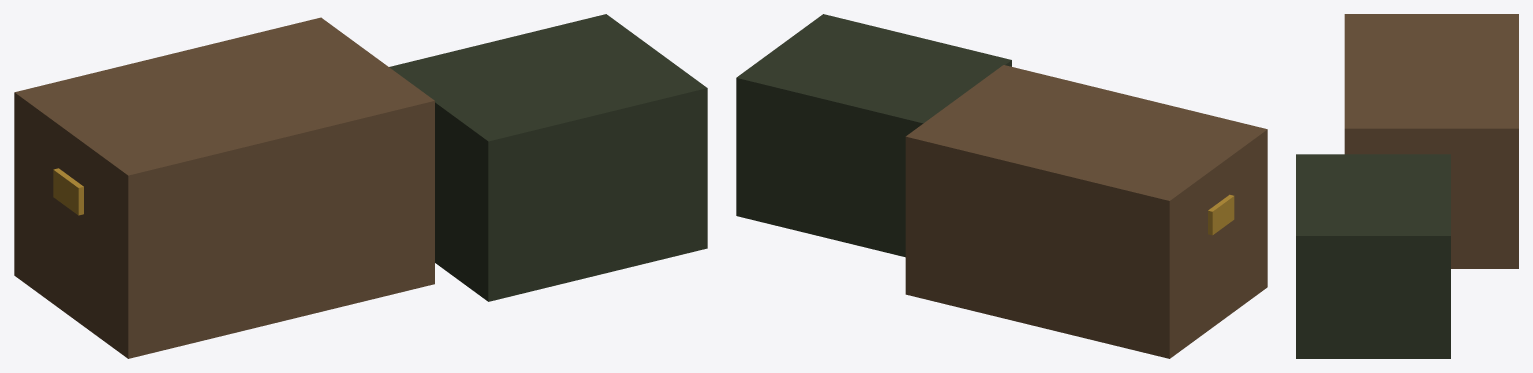
The model's file is ammo-crate.glb.
3 renders of one model, left to right at view 1: azimuth 30°, elevation 25°; view 2: azimuth 150°, elevation 25°; view 3: azimuth 270°, elevation 25°, orthographic. The views are drawn at different scales.
Parts seen in each view (by area): view 1: _MeshInstance3D_64, _MeshInstance3D_66, _MeshInstance3D_65; view 2: _MeshInstance3D_64, _MeshInstance3D_66, _MeshInstance3D_65; view 3: _MeshInstance3D_64, _MeshInstance3D_66.
Part boxes in pixels (left/top/right/bottom): _MeshInstance3D_64: left=14, top=17, right=434, bottom=358; _MeshInstance3D_66: left=389, top=14, right=707, bottom=301; _MeshInstance3D_65: left=53, top=168, right=83, bottom=215; _MeshInstance3D_64: left=905, top=65, right=1267, bottom=358; _MeshInstance3D_66: left=736, top=14, right=1011, bottom=257; _MeshInstance3D_65: left=1208, top=194, right=1234, bottom=235; _MeshInstance3D_64: left=1344, top=14, right=1518, bottom=268; _MeshInstance3D_66: left=1296, top=154, right=1450, bottom=358.
Size of the model in its own units: 2.52 by 0.8 by 1.15.
